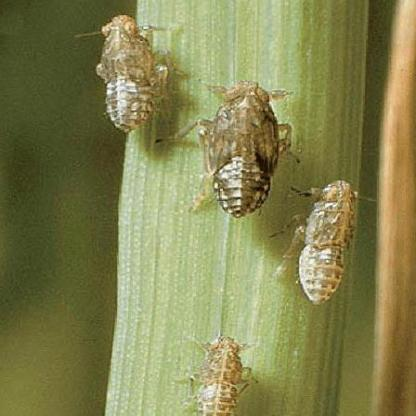brown-planthopper: (207, 84, 280, 214), (92, 14, 156, 133), (299, 175, 355, 305), (185, 334, 250, 416)
